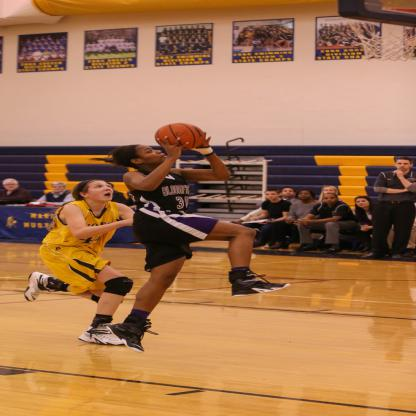Ball: (153, 124, 203, 150)
